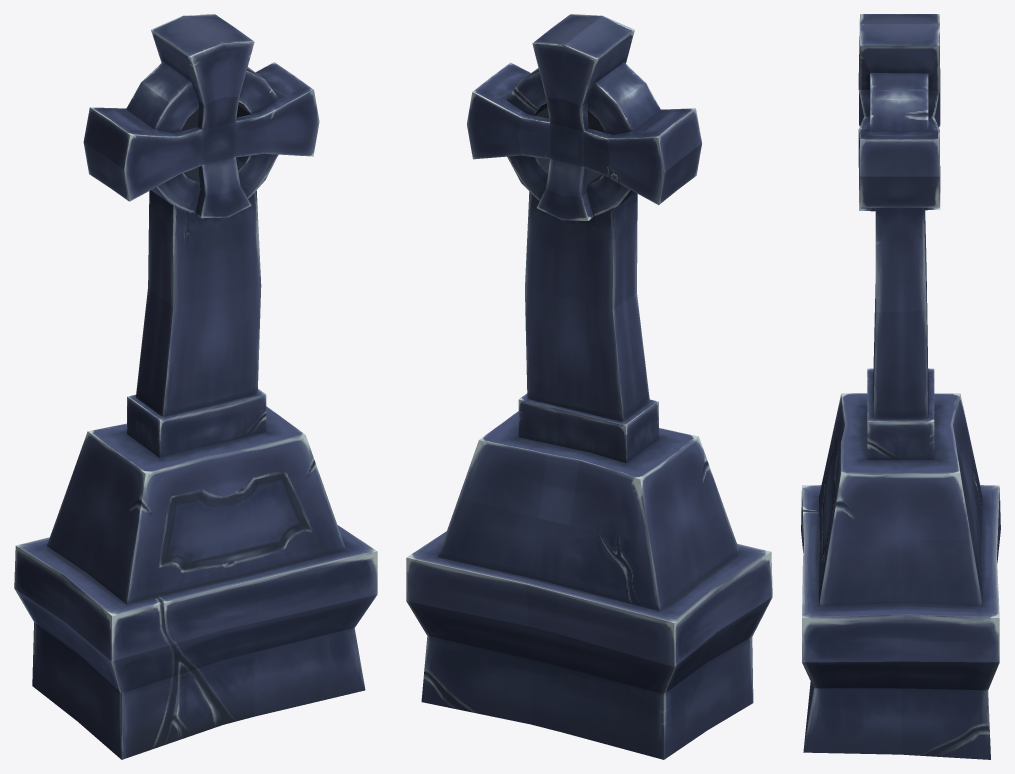
The model's file is gravestone2_5.fbx.
3 views of the same model, side by side, from view 1: azimuth 30°, elevation 25°; view 2: azimuth 150°, elevation 25°; view 3: azimuth 270°, elevation 25° (orthographic). The views are drawn at different scales.
Parts seen in each view (by area): view 1: Cylinder.001; view 2: Cylinder.001; view 3: Cylinder.001.
Boxes of the visible parts, x1=… form: Cylinder.001: x1=14, y1=14, x2=377, y2=759; Cylinder.001: x1=406, y1=14, x2=772, y2=759; Cylinder.001: x1=801, y1=14, x2=1000, y2=759.
Size of the model in its own units: 271 by 650 by 172.
